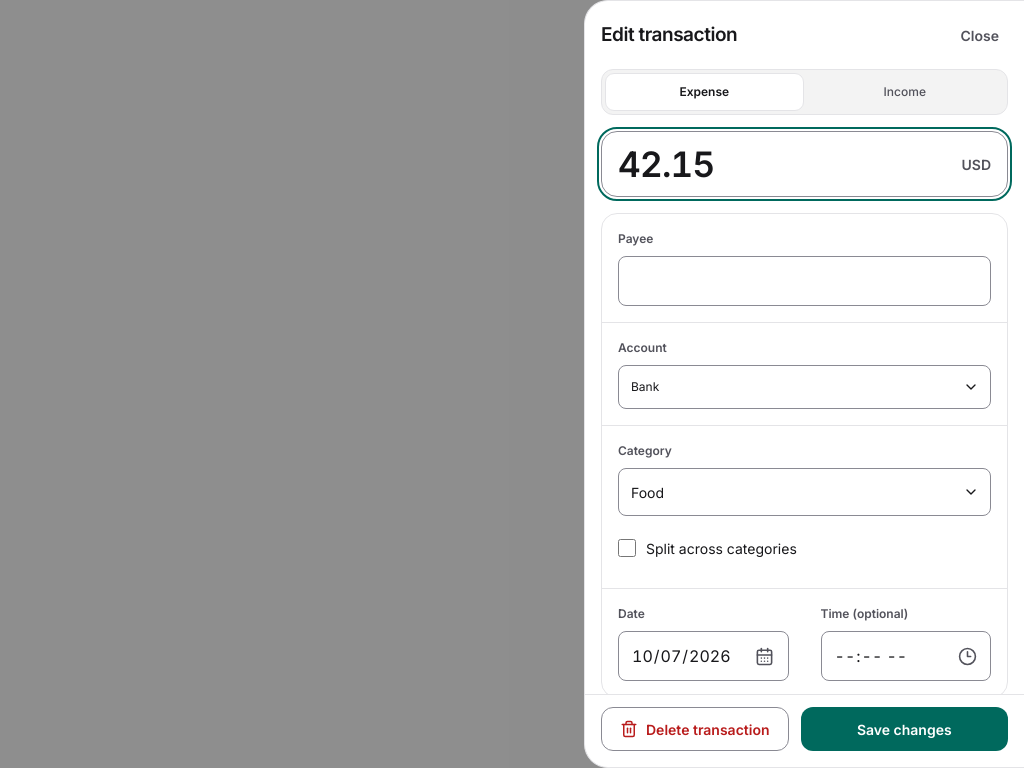
Test case: closes the delete question when deletion is confirmed
The width and height of the screenshot is (1024, 768).
Click the button "Delete transaction" at (695,729), box left=601, top=707, right=788, bottom=751
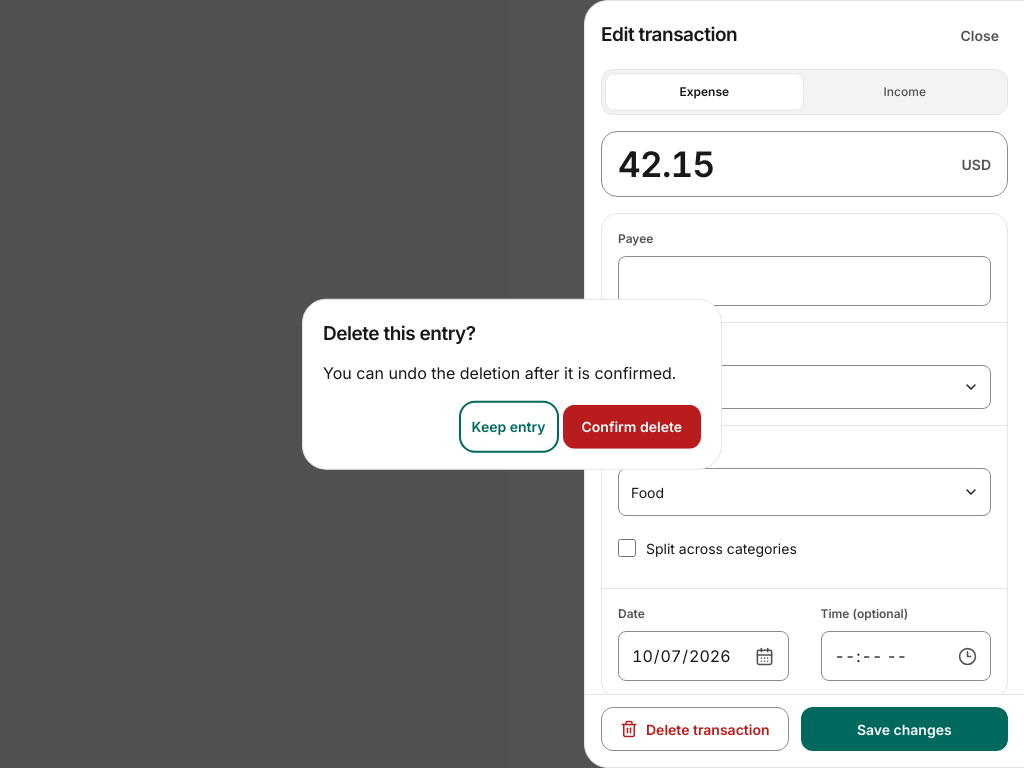
Click the button "Confirm delete" at (632,426), box left=562, top=404, right=701, bottom=448
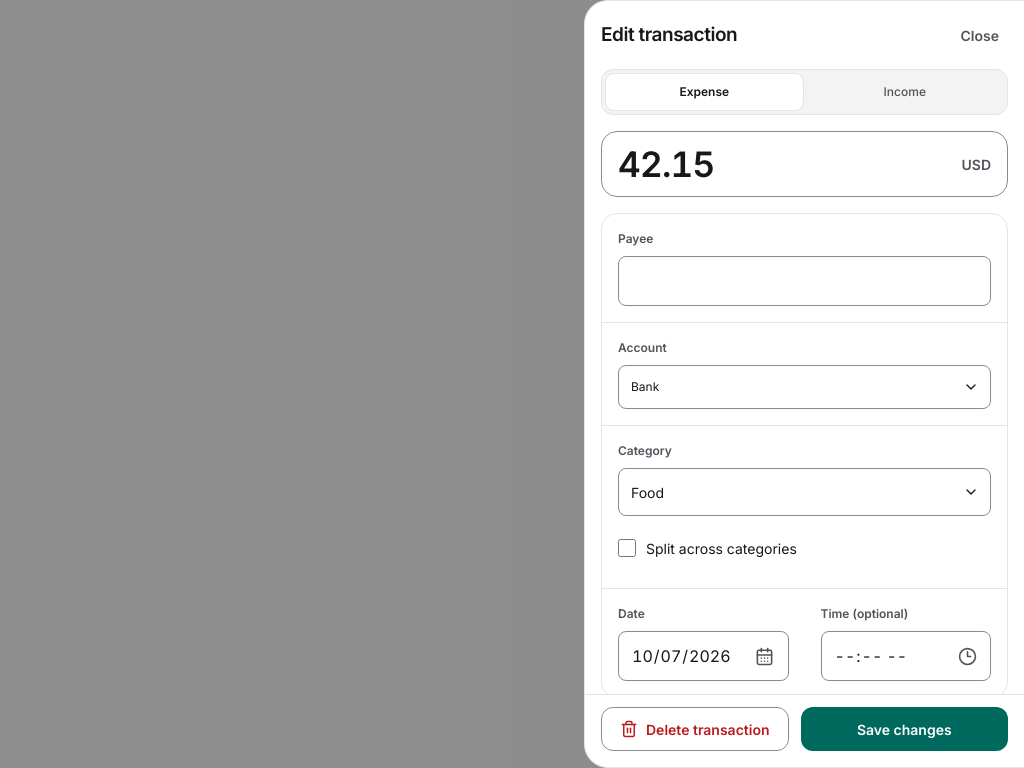
expect the heading "Delete this entry?" is gone: met
